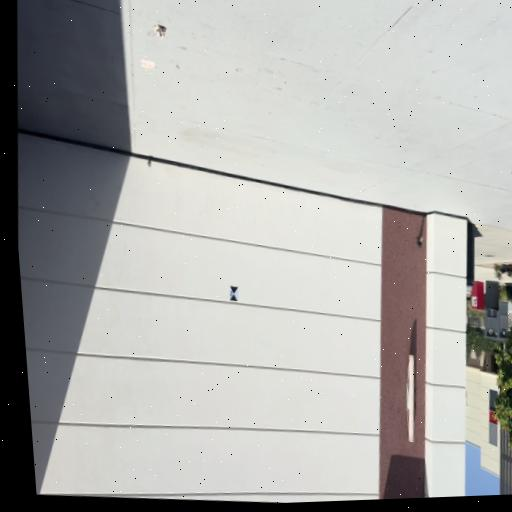target7: (229, 286, 239, 301)
